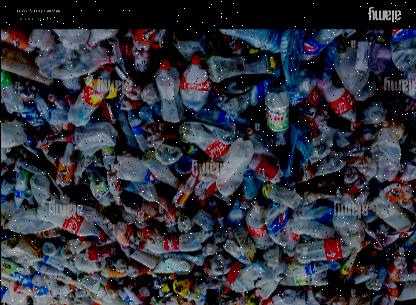Plastic Bottle: (63, 66, 118, 132), (310, 66, 362, 128), (30, 208, 98, 244), (215, 138, 251, 206), (104, 153, 166, 191), (0, 270, 60, 302), (240, 200, 274, 254), (135, 232, 205, 258), (262, 82, 286, 154), (288, 239, 366, 259), (180, 56, 208, 110), (0, 23, 36, 62), (50, 140, 74, 192)
